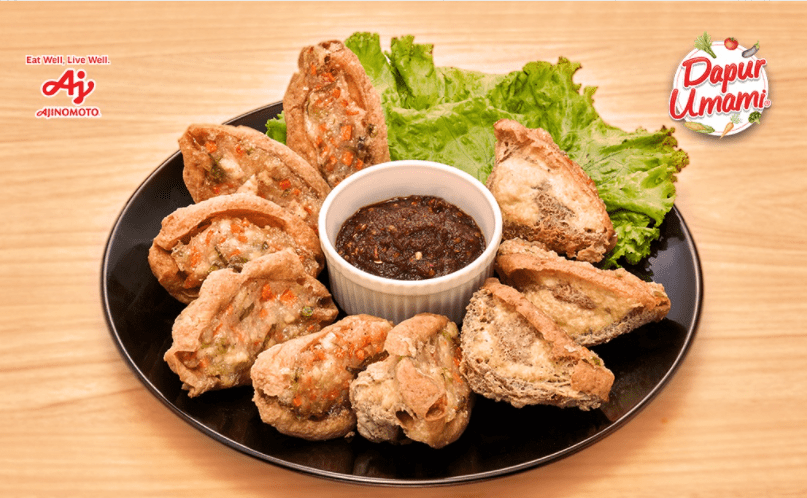Tahu: (472, 281, 635, 411), (252, 294, 402, 435), (273, 48, 400, 186), (349, 301, 463, 443), (165, 178, 285, 294), (483, 124, 598, 244), (198, 111, 301, 232), (515, 254, 654, 321)
